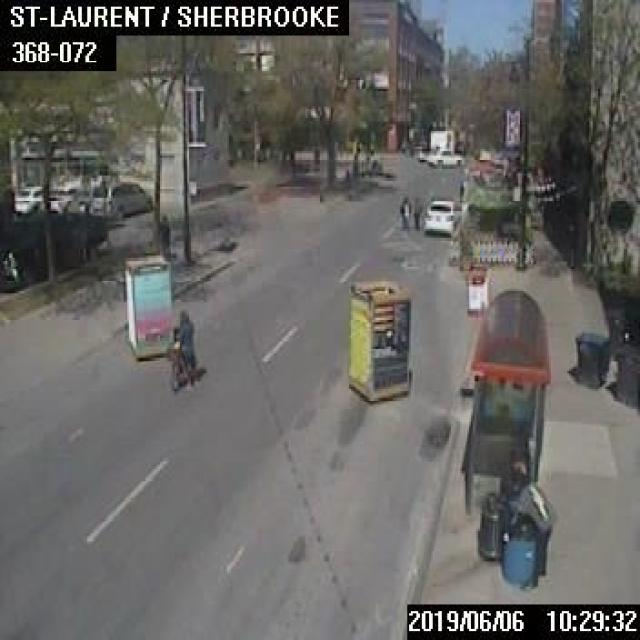pedestrian: (497, 476, 549, 588), (167, 309, 196, 393), (398, 193, 411, 231), (412, 195, 421, 228)
vehicle: (0, 220, 87, 291), (89, 179, 151, 217), (422, 195, 459, 232), (12, 183, 42, 212), (43, 184, 75, 209), (424, 145, 463, 165), (419, 143, 436, 159)
